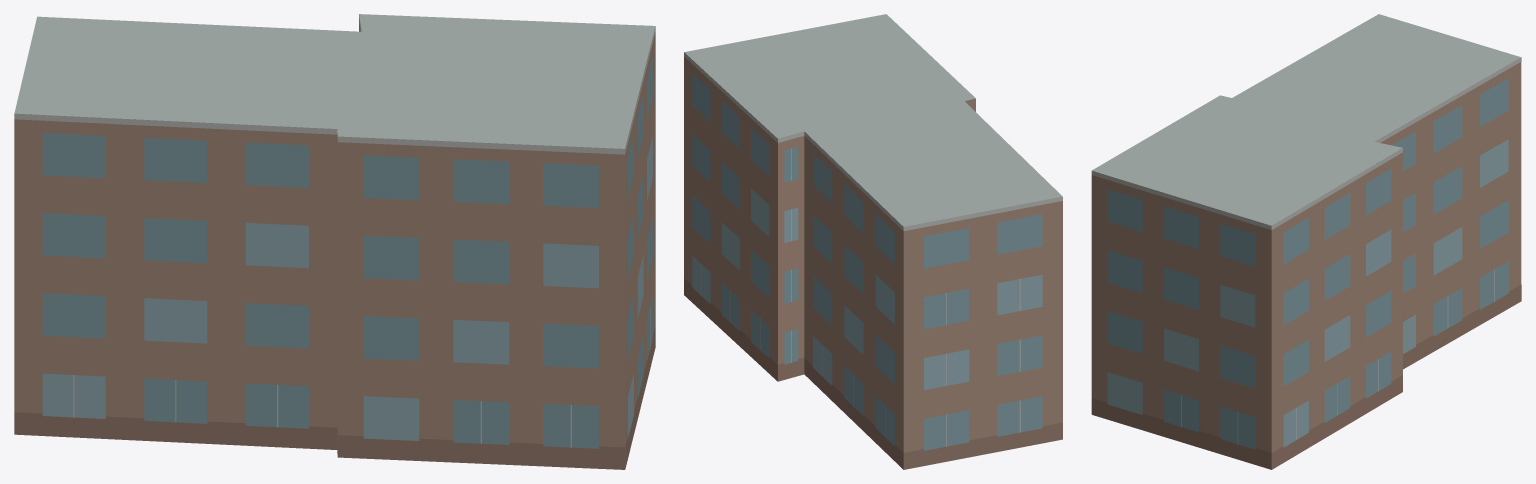
File: survey-upis-32878927.glb
3 views of the same model, side by side, from view 1: azimuth 30°, elevation 25°; view 2: azimuth 150°, elevation 25°; view 3: azimuth 270°, elevation 25° (orthographic). The views are drawn at different scales.
Parts seen in each view (by area): view 1: survey-upis-32878927.tmp; view 2: survey-upis-32878927.tmp; view 3: survey-upis-32878927.tmp.
Boxes of the visible parts, <box> form: survey-upis-32878927.tmp: <box>14,14,655,469</box>; survey-upis-32878927.tmp: <box>684,14,1062,469</box>; survey-upis-32878927.tmp: <box>1091,14,1521,469</box>.
Size of the model in its own units: 25.7 by 13.8 by 22.03.
